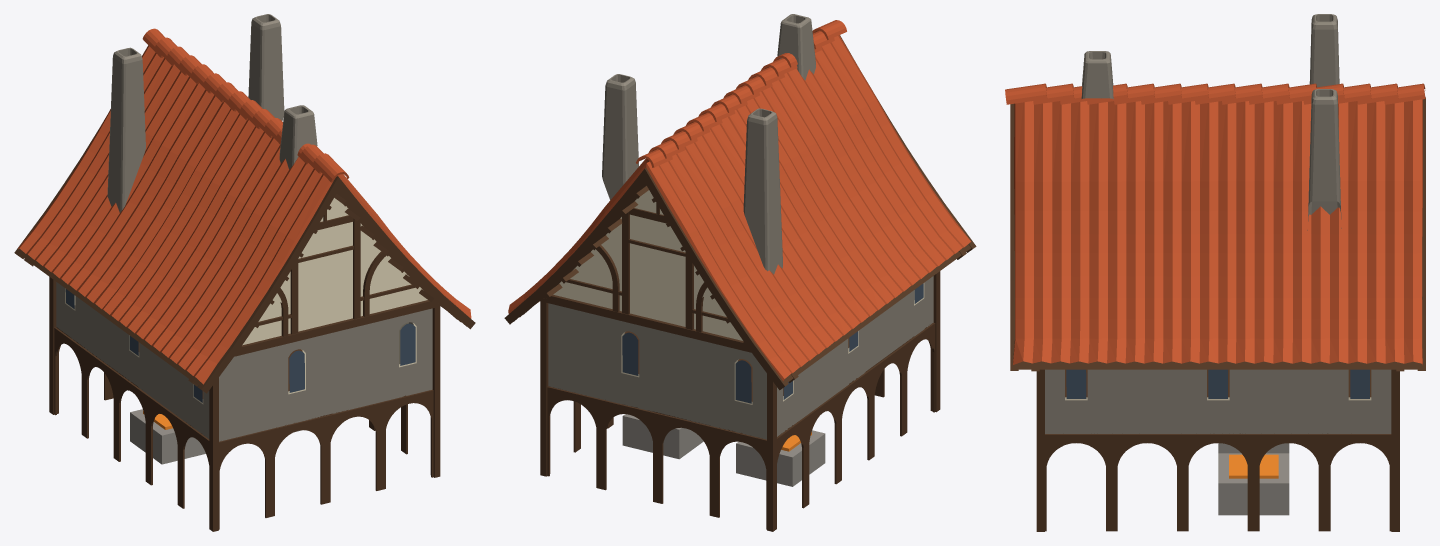
File: forge_hall.obj
The picture shows the model from 3 angles, left to right: view 1: azimuth 30°, elevation 25°; view 2: azimuth 150°, elevation 25°; view 3: azimuth 270°, elevation 25°; orthographic projection. The views are drawn at different scales.
Size of the model in its own units: 9.95 by 12.9 by 11.86.
